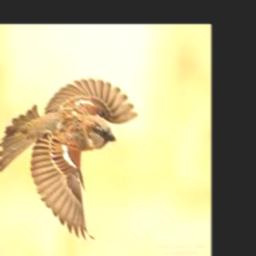Sparrow: (0, 78, 138, 239)
